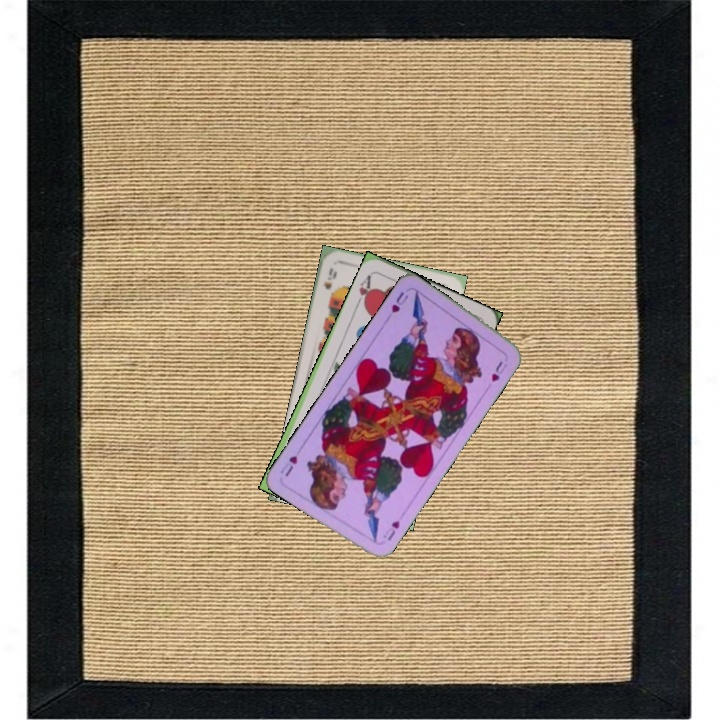HA: (352, 269, 375, 311)
HU: (387, 287, 411, 316), (379, 516, 402, 543)
S9: (319, 264, 339, 292)
